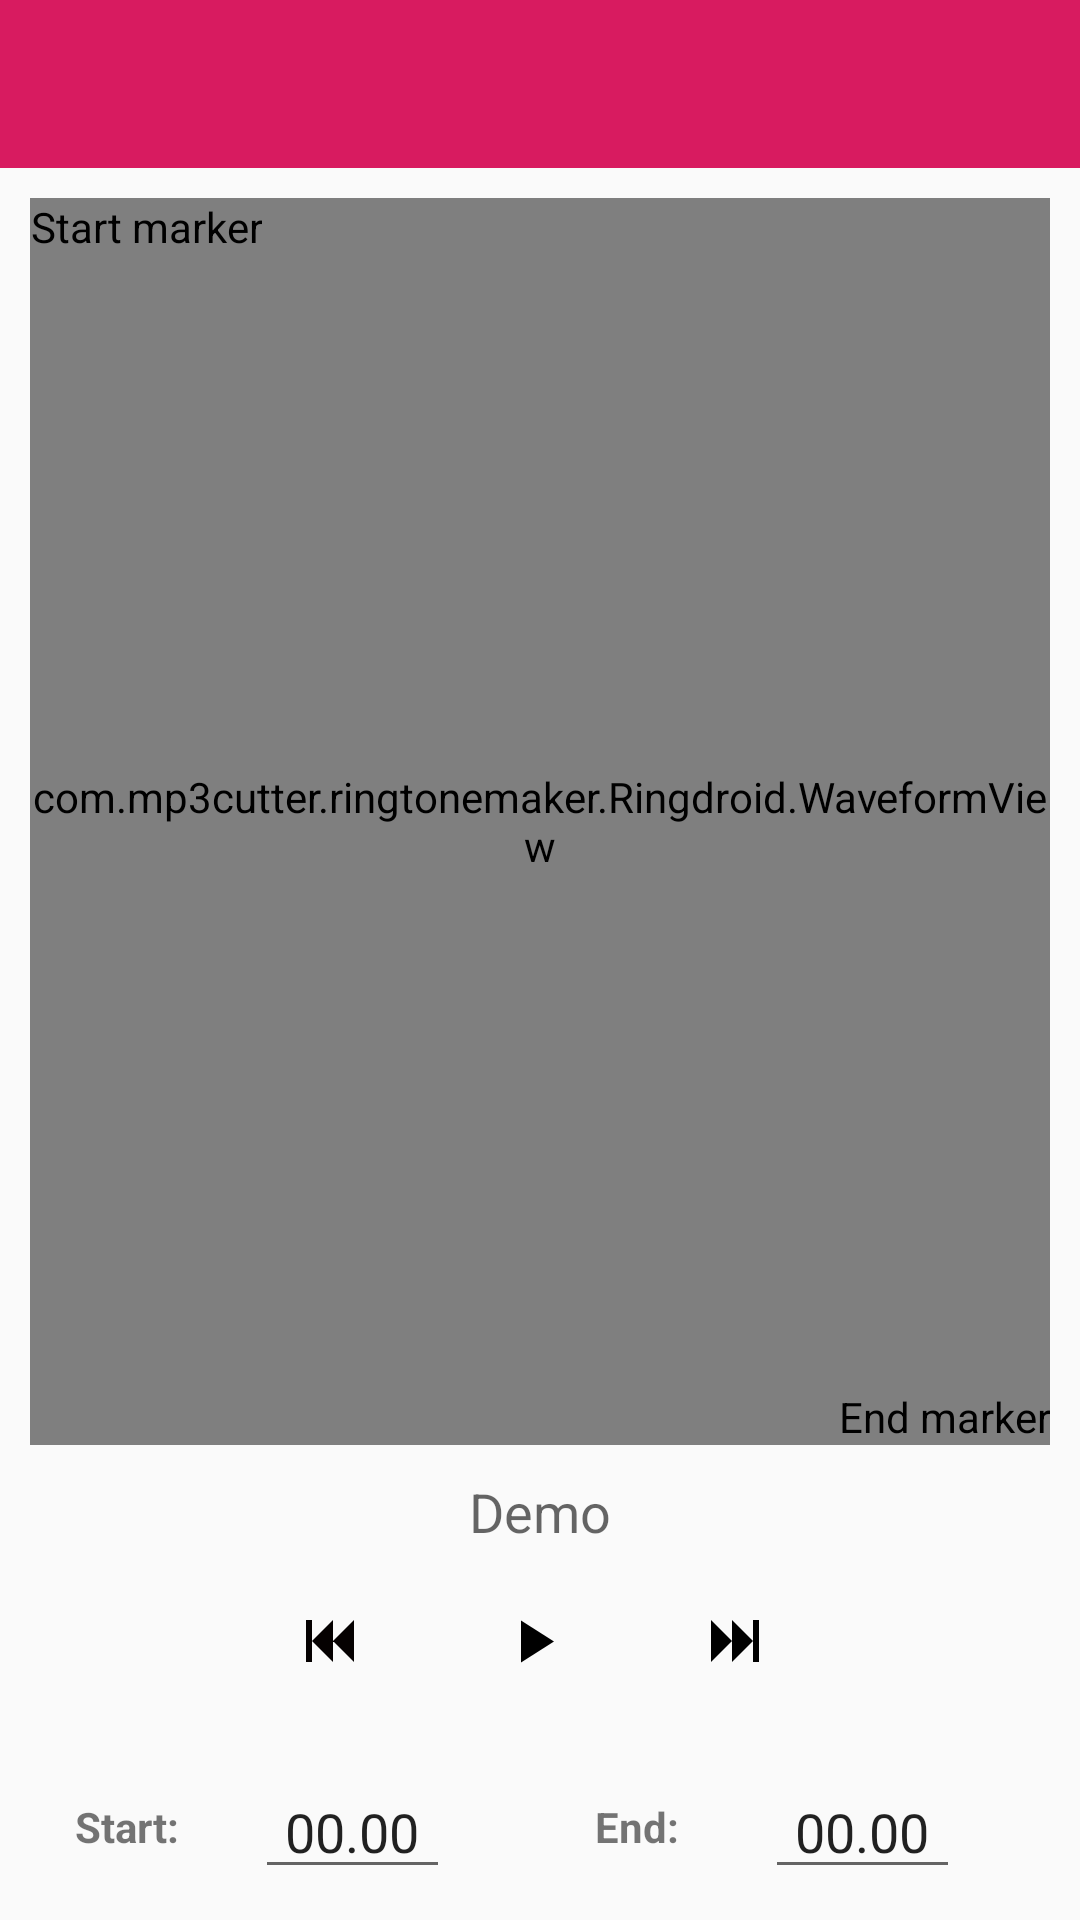

Screen size 1080x1920. Icon name, then its box in pixels as (x1, y1, x2, y2):
Fast forward: (711, 1620, 759, 1662)
play: (521, 1620, 554, 1663)
Rewind: (306, 1620, 354, 1662)
